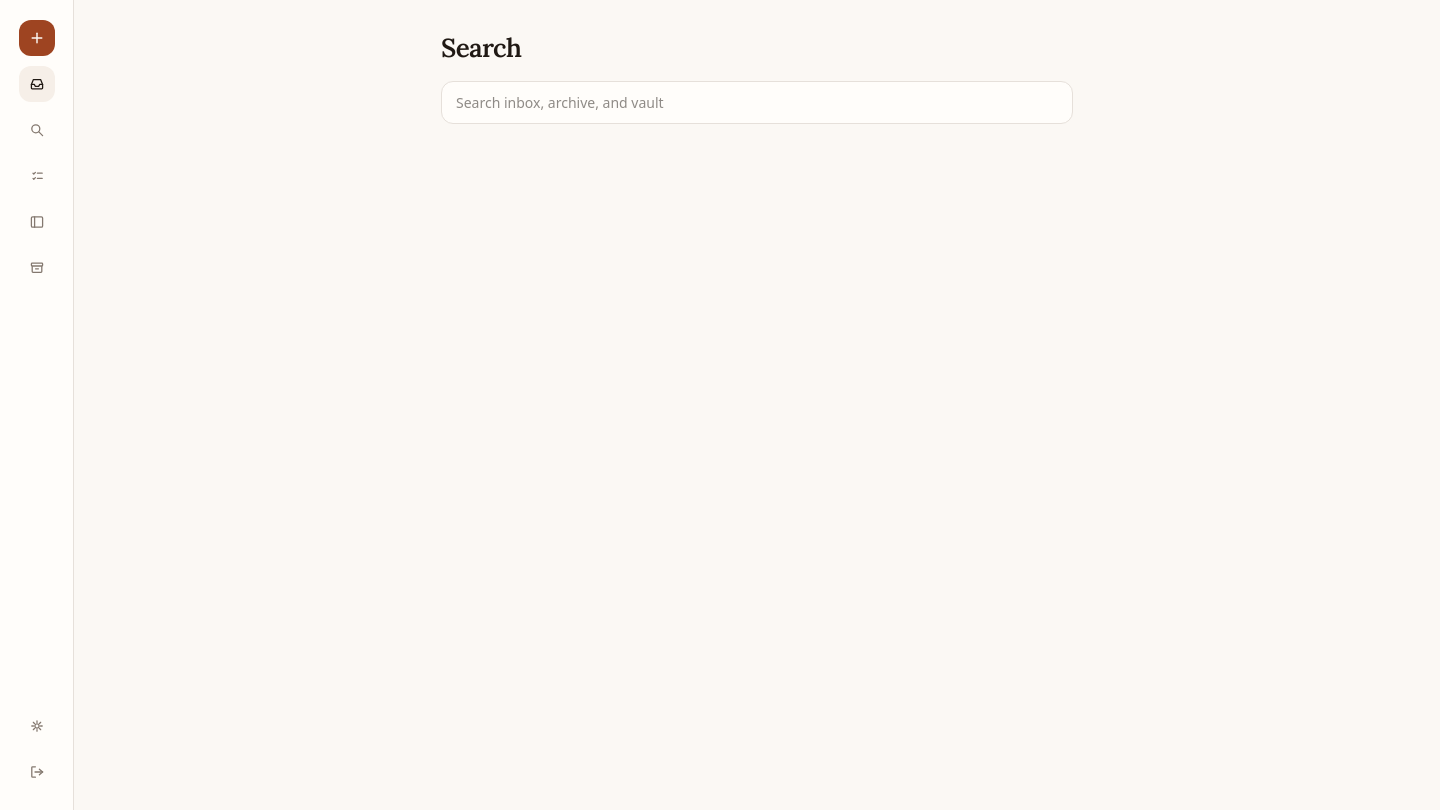
Scenario: Search › searches (debounced) and renders both item and vault_note results
The width and height of the screenshot is (1440, 810).
In the field with placeholder "Search inbox, archive, and vault": (757, 102) top-left (441, 81), bottom-right (1073, 124), type "Pier 66"
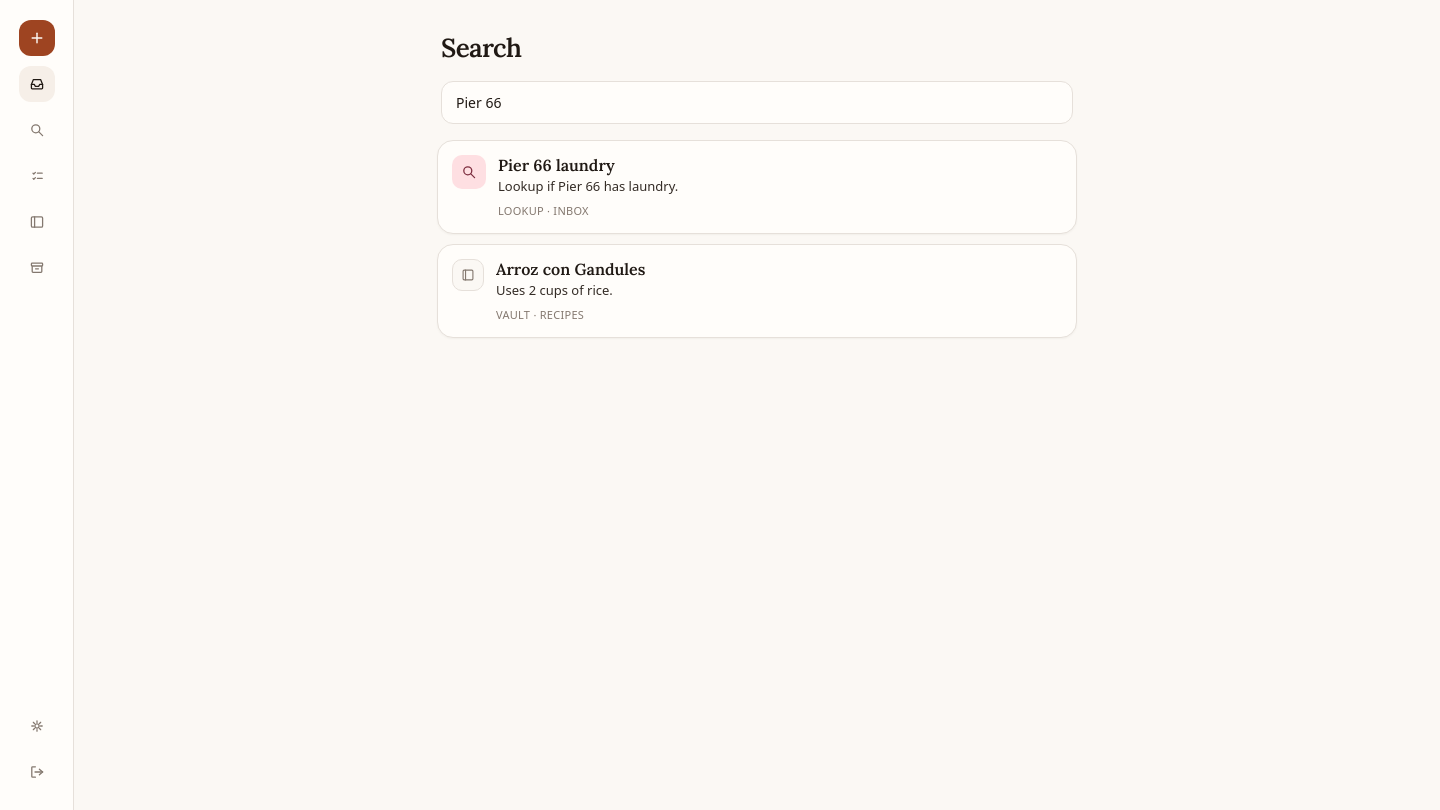
expect the text "Pier 66 laundry" is shown: met, box top-left (498, 155), bottom-right (615, 175)
expect the text "Arroz con Gandules" is shown: met, box top-left (496, 259), bottom-right (645, 279)
